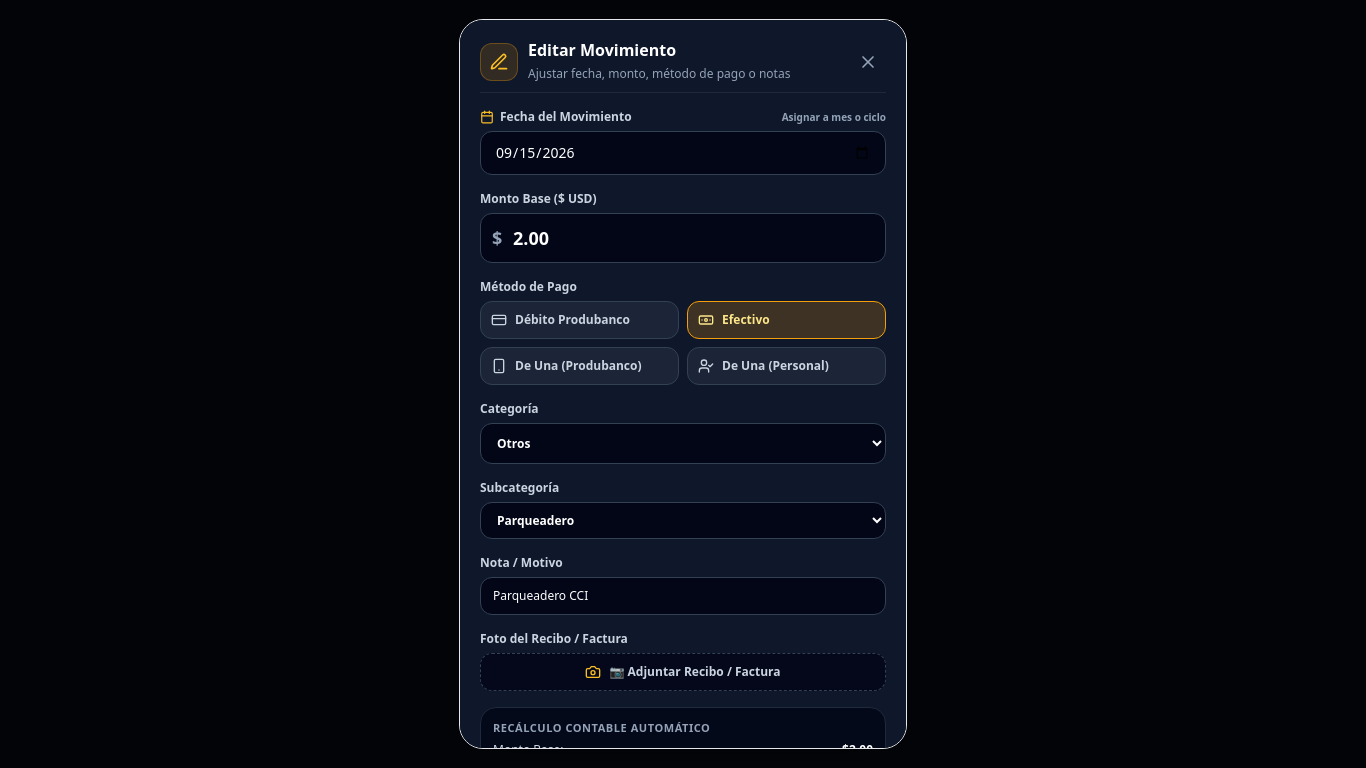
EditTransactionModal › recalculates commission when switching to De Una (Produbanco)
Note: Switch payment method to De Una (Produbanco)
Click the button "De Una (Produbanco)" at (580, 366), box [480,347,679,385]
(page scrolled)
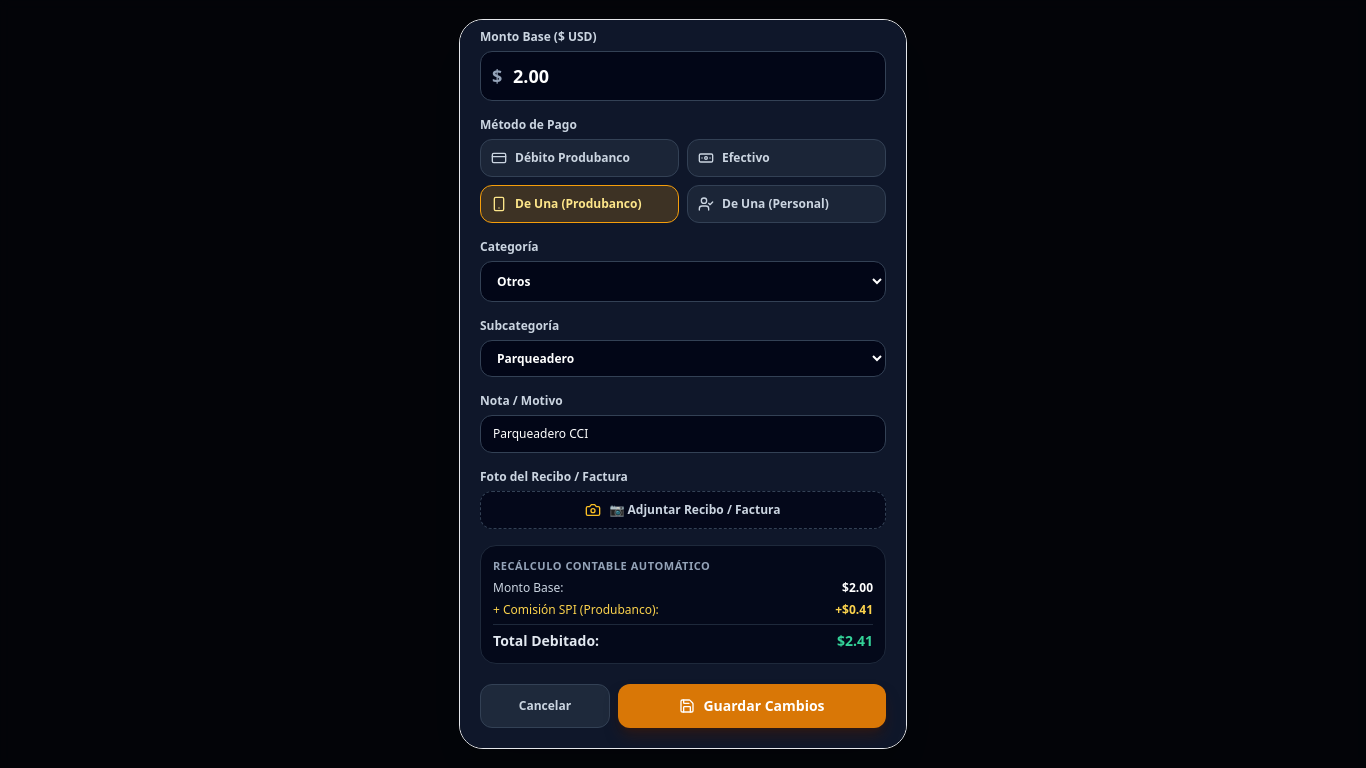
Now the text "+$0.41" is shown, box [835,602,873,618]
Now the text "$2.41" is shown, box [837,631,873,651]
